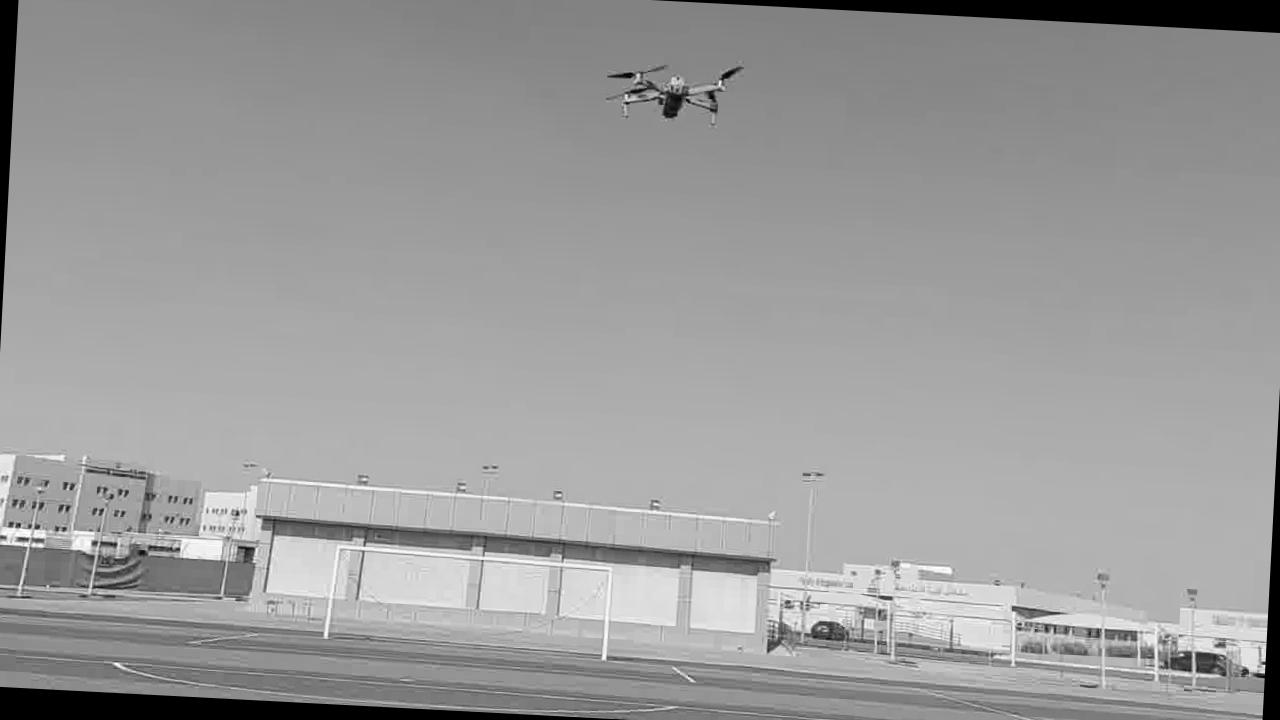drone: (589, 48, 750, 141)
